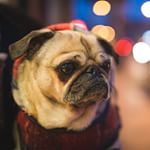puppy: (6, 25, 123, 131)
